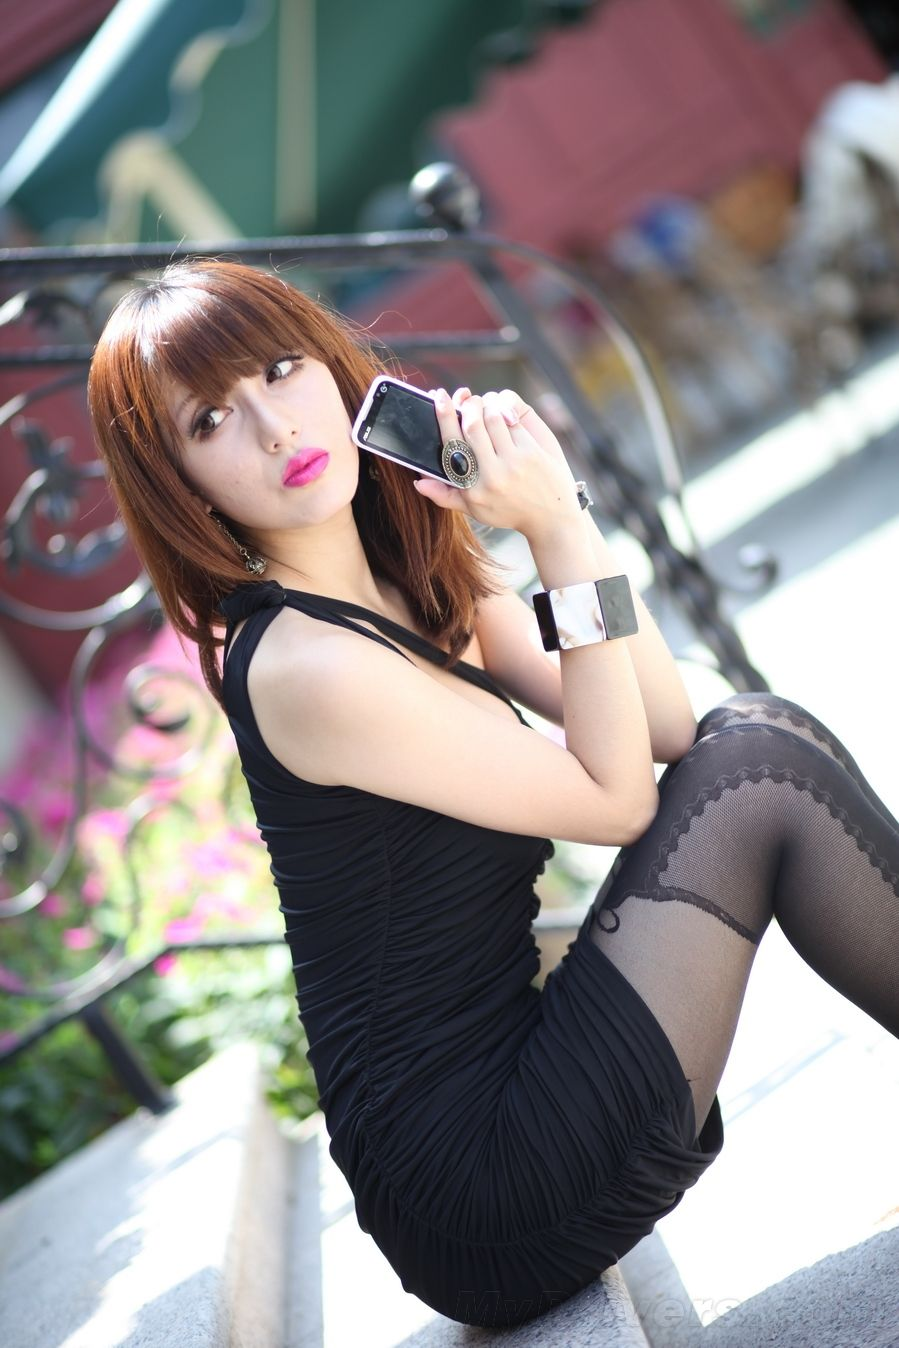person: (84, 243, 456, 596)
